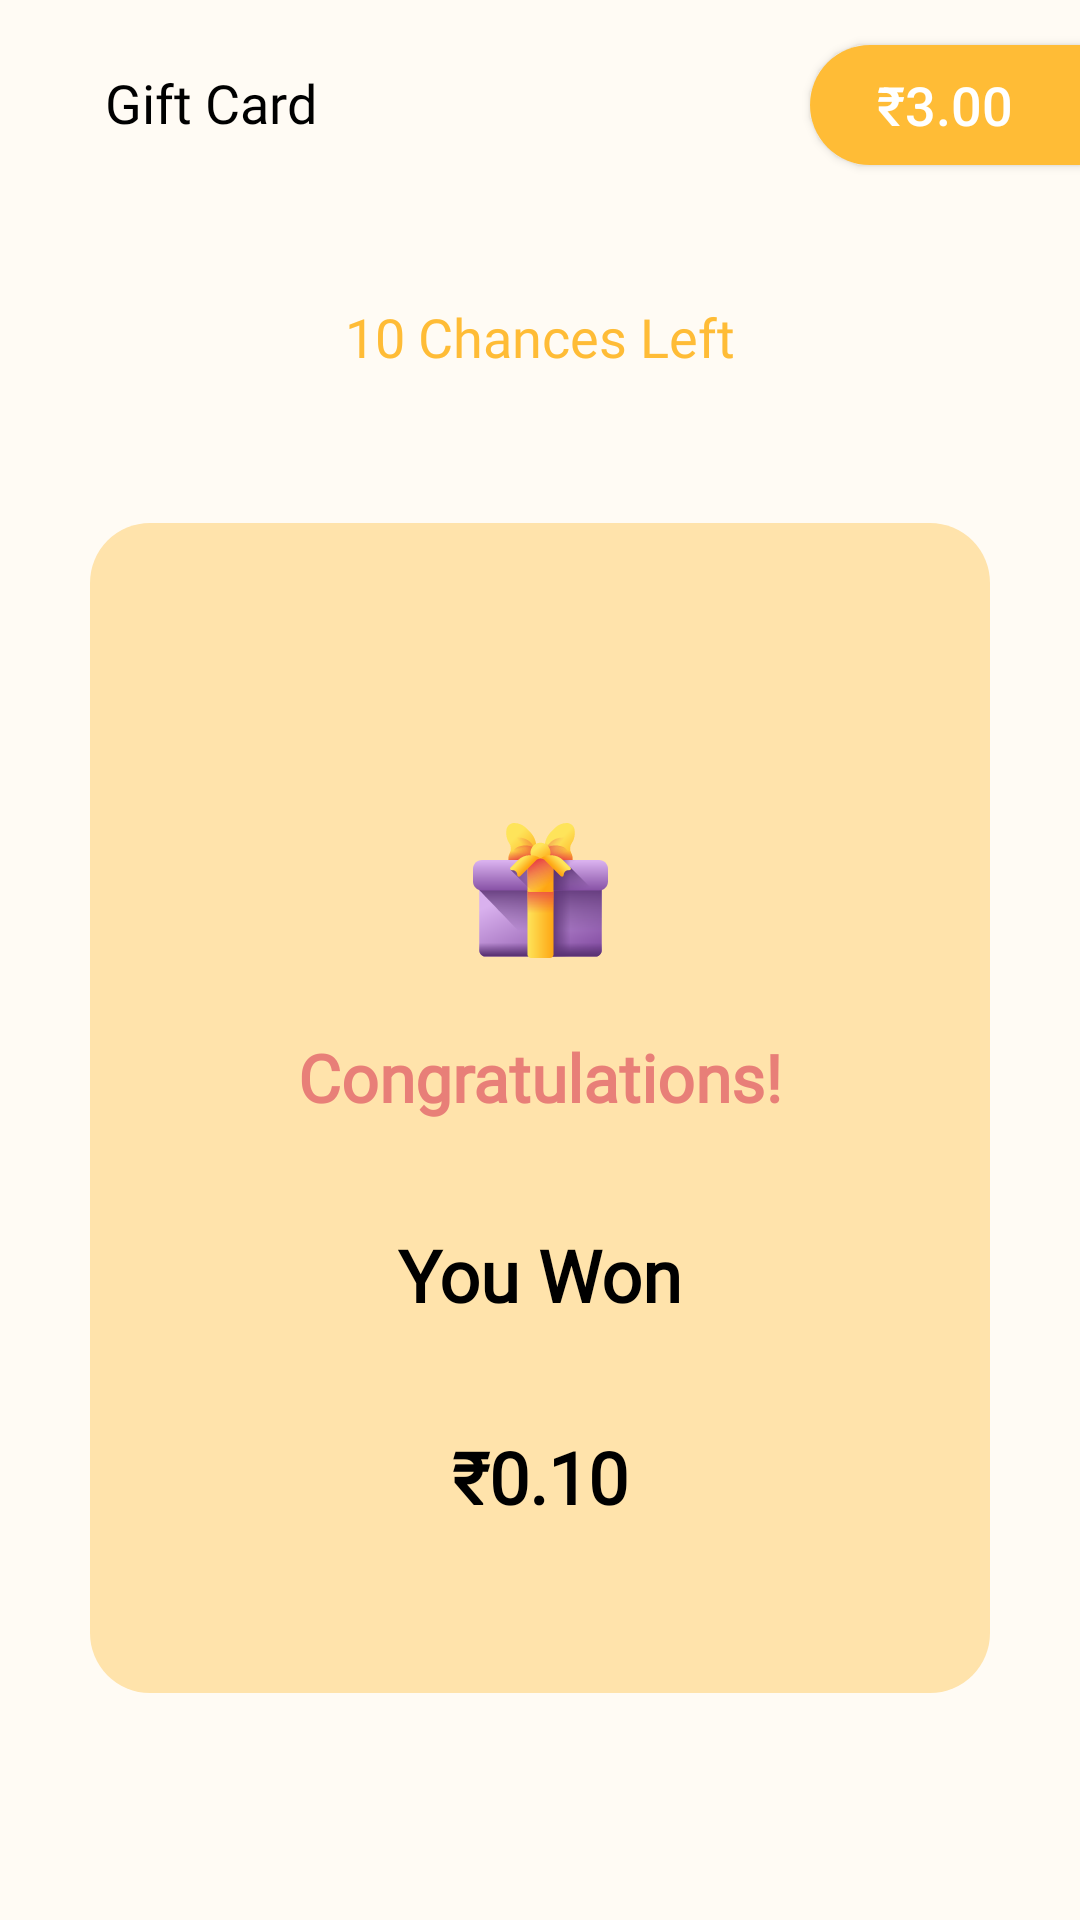

Screen size 1080×1920. Icon name, then its box in pixels as Rect(x1, y1, x2, y2):
Category Image: Rect(473, 823, 608, 958)
